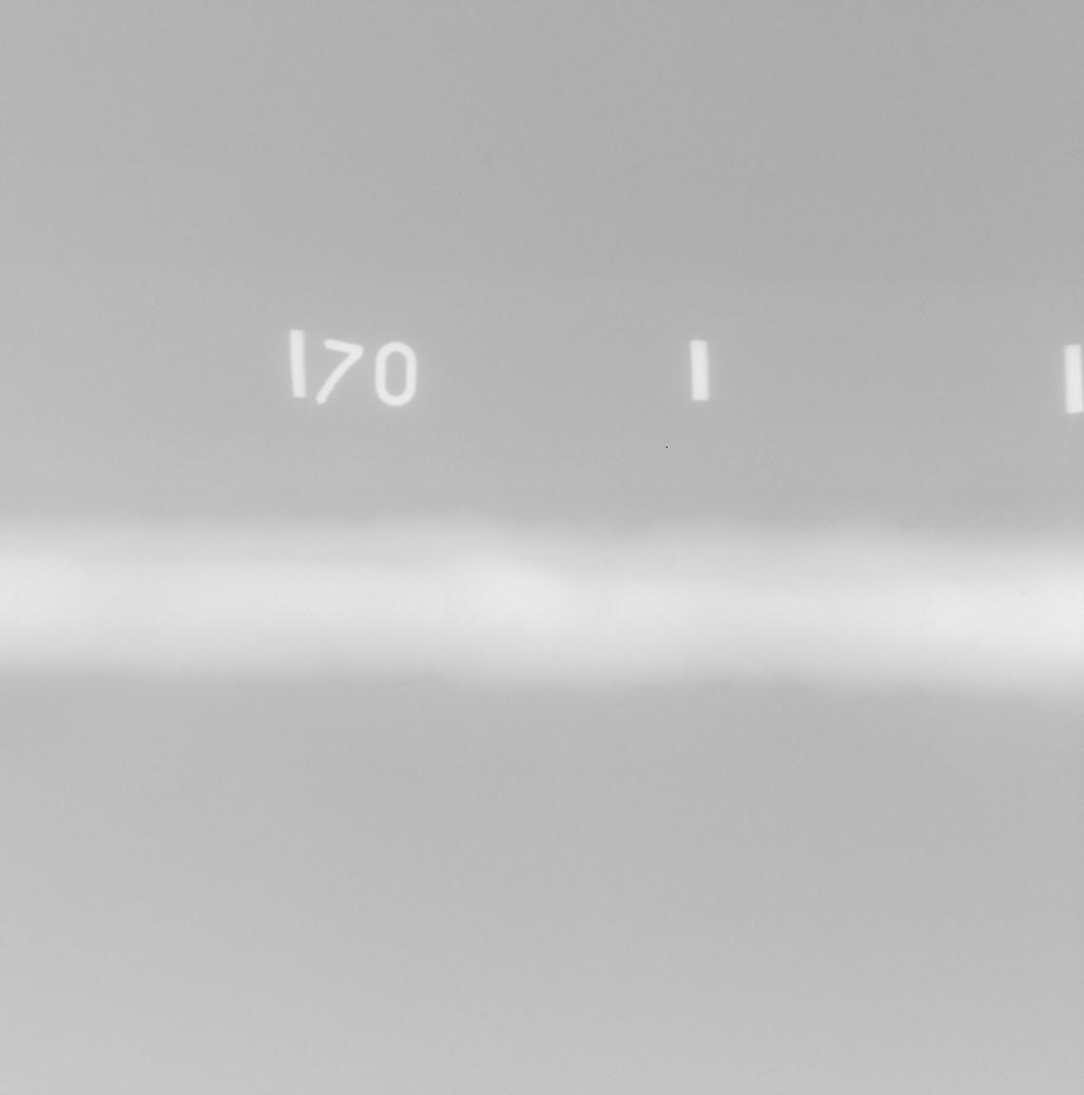Pore/Porosity: (1020, 591, 1028, 597), (22, 573, 30, 577), (54, 641, 58, 645)
Undercut: (890, 520, 910, 525)
